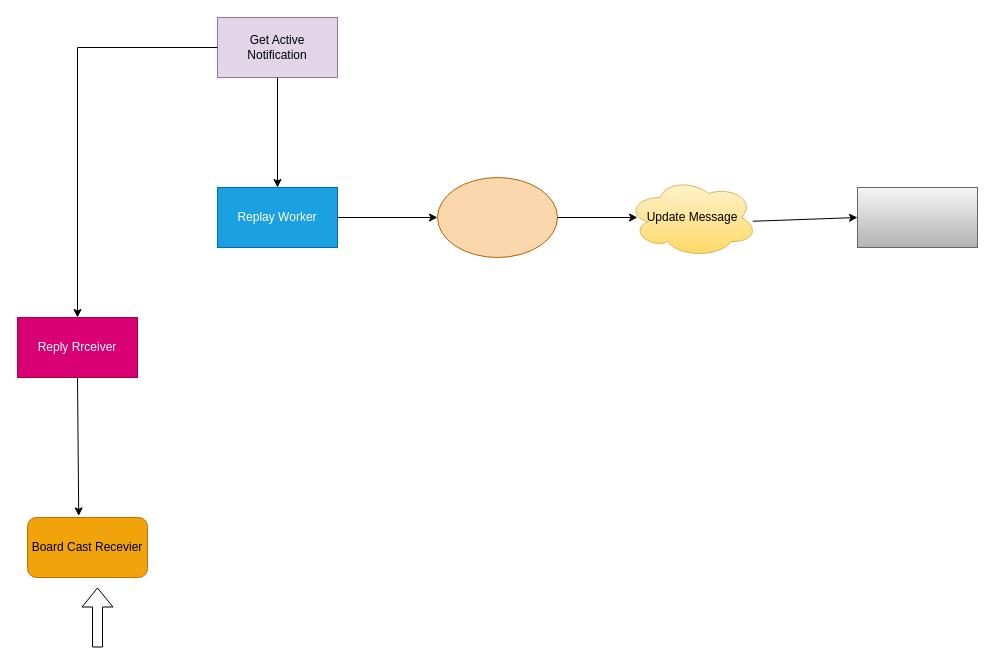
This 995x665 diagram has some shape labels left out. Each missing label, with the centre of its shape:
"API Call" goes at (x=497, y=217).
"Update Active Notification" goes at (x=917, y=217).
